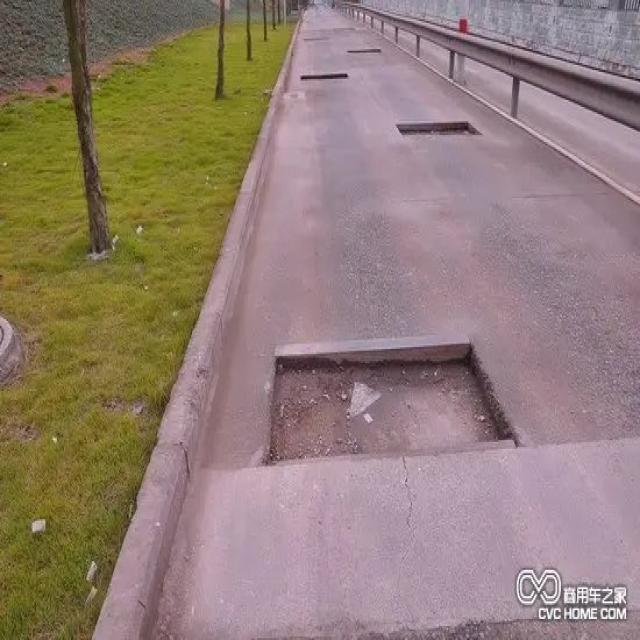Pothole: (261, 351, 520, 452), (393, 109, 483, 142), (295, 70, 355, 83), (347, 42, 384, 53), (304, 35, 328, 40)
